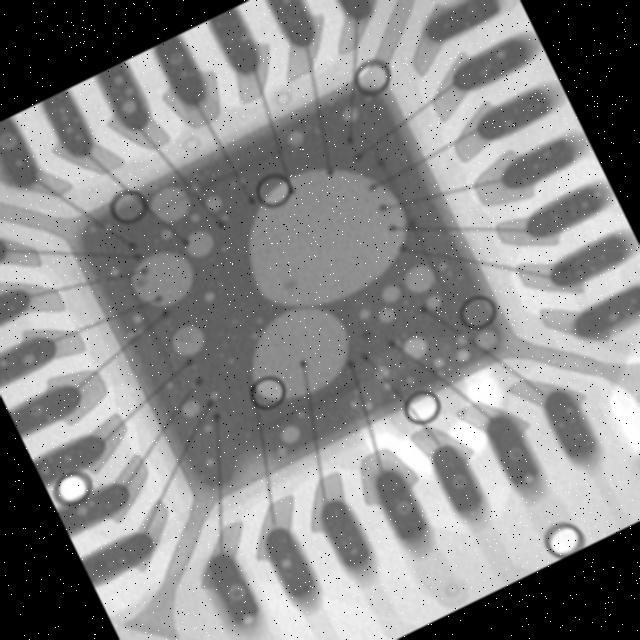chip: (54, 63, 528, 512)
void: (243, 161, 411, 308), (245, 306, 353, 399), (129, 245, 194, 306), (144, 182, 191, 221), (166, 320, 206, 358), (401, 260, 437, 292), (183, 230, 217, 260), (401, 333, 430, 359), (175, 396, 204, 417), (474, 325, 499, 349), (275, 421, 302, 443), (337, 103, 363, 124), (421, 292, 443, 316), (380, 281, 403, 302), (284, 127, 306, 148), (204, 192, 224, 215), (376, 303, 398, 323), (372, 360, 394, 380), (449, 343, 474, 360), (131, 305, 146, 325)
